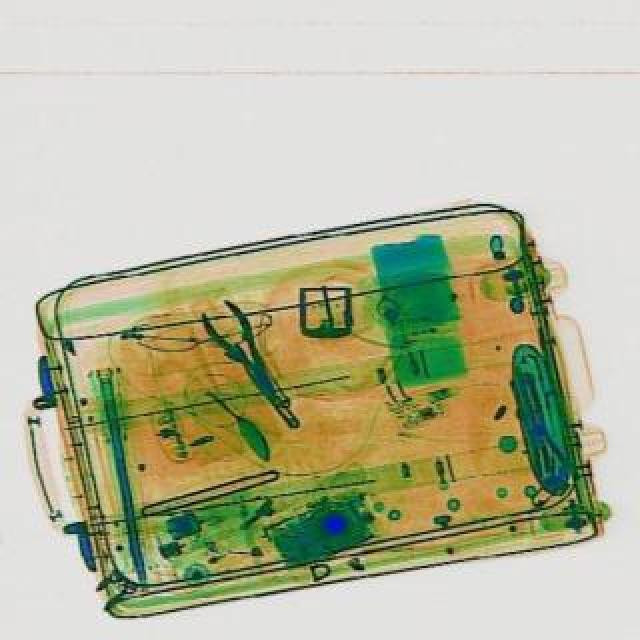wrench: (190, 292, 294, 408)
